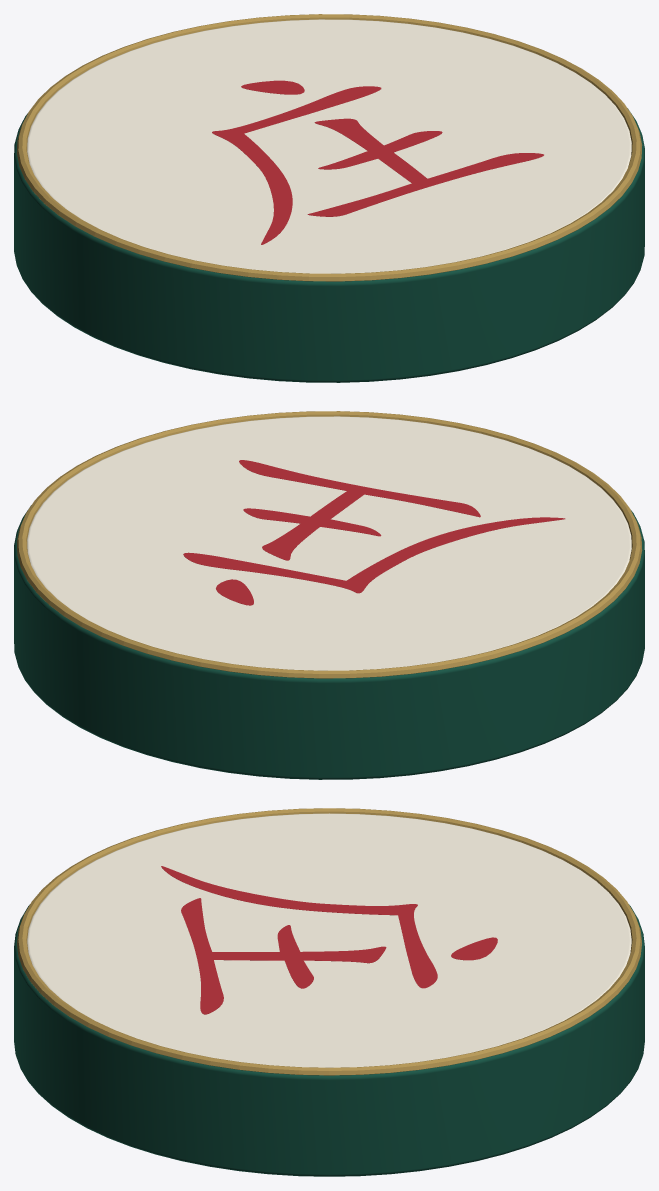
Rendered from dealer-marker.glb.
3 views of the same model, one above another, from view 1: azimuth 30°, elevation 25°; view 2: azimuth 150°, elevation 25°; view 3: azimuth 270°, elevation 25° (orthographic).
Visible parts, largest first — view 1: Ivory dealer top, Green dealer rim, Brass dealer rim, Dealer character; view 2: Ivory dealer top, Green dealer rim, Brass dealer rim, Dealer character; view 3: Ivory dealer top, Green dealer rim, Brass dealer rim, Dealer character.
Part boxes in pixels (bbox=[...]): Ivory dealer top: bbox=[27, 19, 631, 273]; Green dealer rim: bbox=[14, 108, 644, 382]; Brass dealer rim: bbox=[16, 14, 642, 281]; Dealer character: bbox=[212, 80, 543, 244]; Ivory dealer top: bbox=[27, 416, 631, 670]; Green dealer rim: bbox=[14, 505, 644, 779]; Brass dealer rim: bbox=[16, 411, 642, 678]; Dealer character: bbox=[183, 460, 565, 605]; Ivory dealer top: bbox=[27, 813, 631, 1067]; Green dealer rim: bbox=[14, 904, 644, 1176]; Brass dealer rim: bbox=[17, 808, 641, 1075]; Dealer character: bbox=[161, 866, 497, 1014].
Size of the model in its own units: 0.045 by 0.0084 by 0.045.
